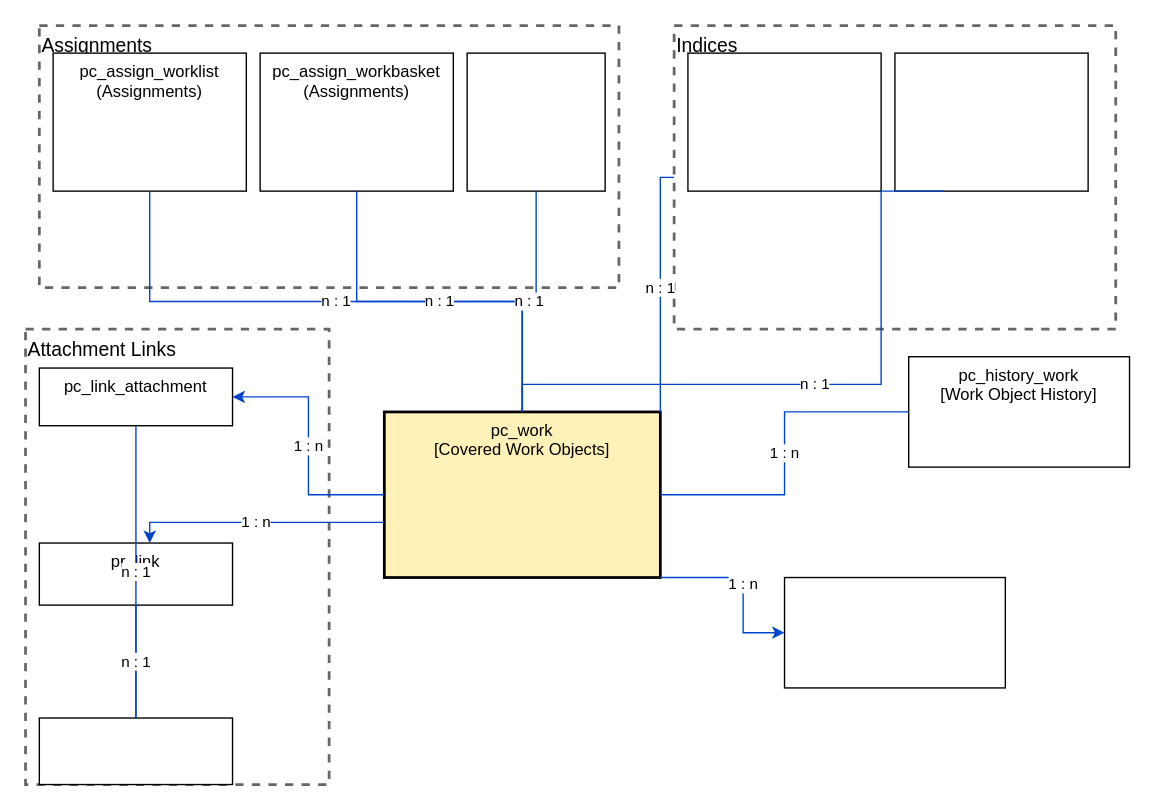
Image size: 1154x809. Some labels were removed from this diagram. Each missing label, with the centre of its shape:
pc_data_workattach, pr_data: the point at 135,751
pc_index_workparty: the point at 784,121
pc_link_folder [Work Folder Links]: the point at 894,632
pr_assign (Assignments): the point at 535,121
pr_index: the point at 991,121
